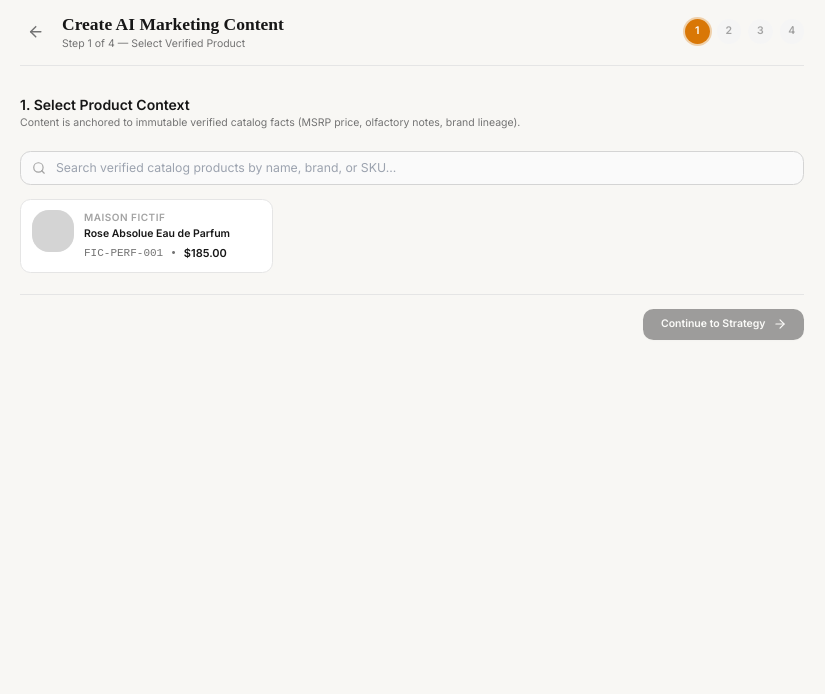
Scenario: Content Creation Wizard (WEB-CONTENT-06 to WEB-CONTENT-10) › WEB-CONTENT-08: Progresses through Step 2 (Strategy & Language) to Step 3
// Select product
Step 1. Click the heading "Rose Absolue Eau de Parfum" → coordinates (157, 234), box [84,227,230,240]
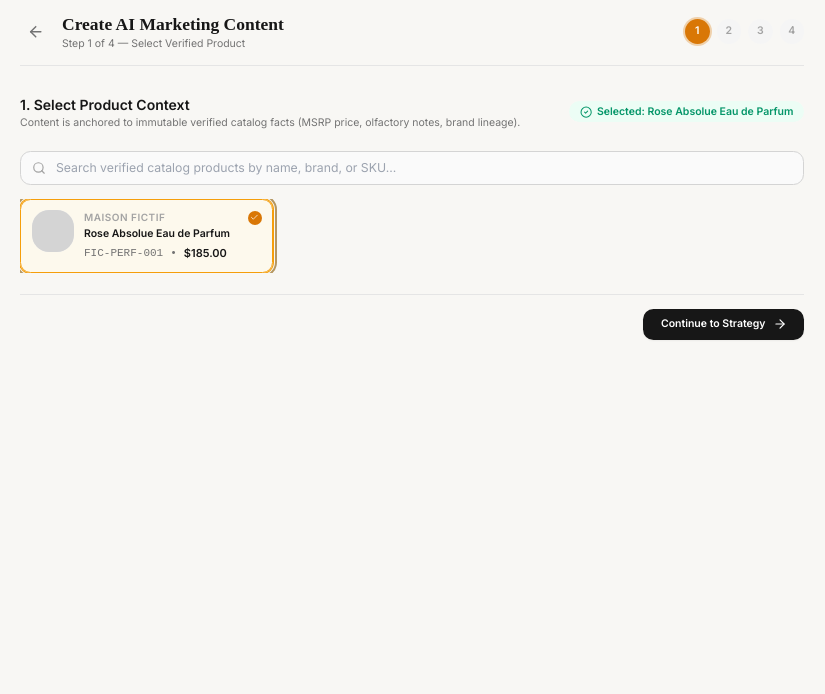
Step 2. Click the button "Continue to Strategy" → coordinates (724, 324), box [643,308,804,340]
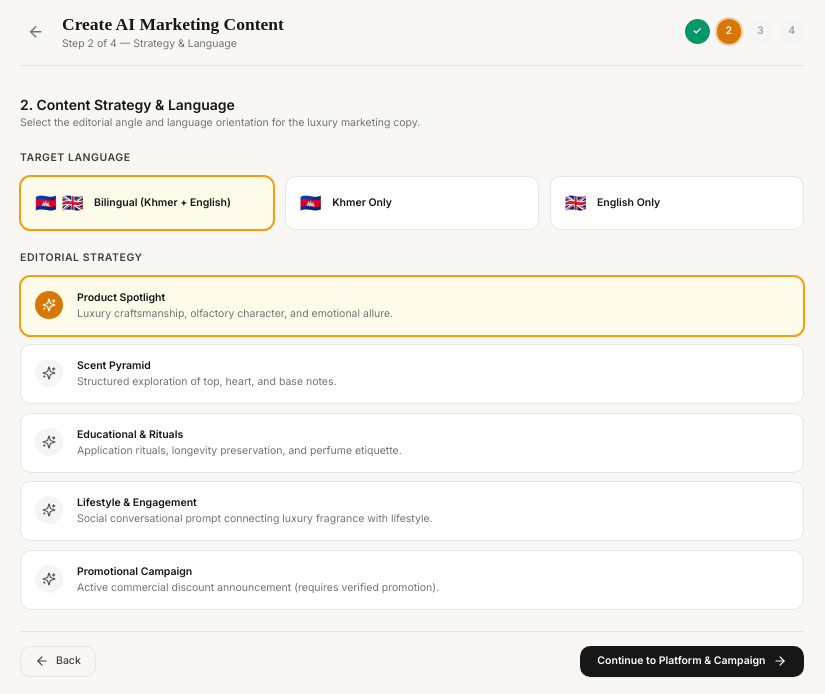
Now the heading "2. Content Strategy & Language" is shown, box [20,96,235,112]
Step 3. Click the text "Scent Pyramid" → coordinates (114, 366), box [77,359,151,372]
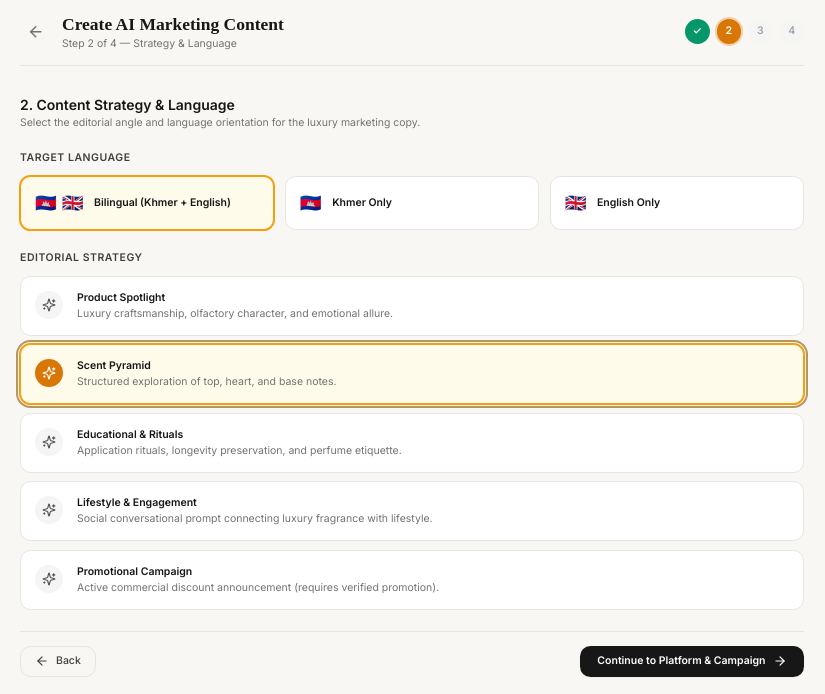
Step 4. Click the button "Continue to Platform & Campaign" → coordinates (692, 661), box [580,646,804,677]
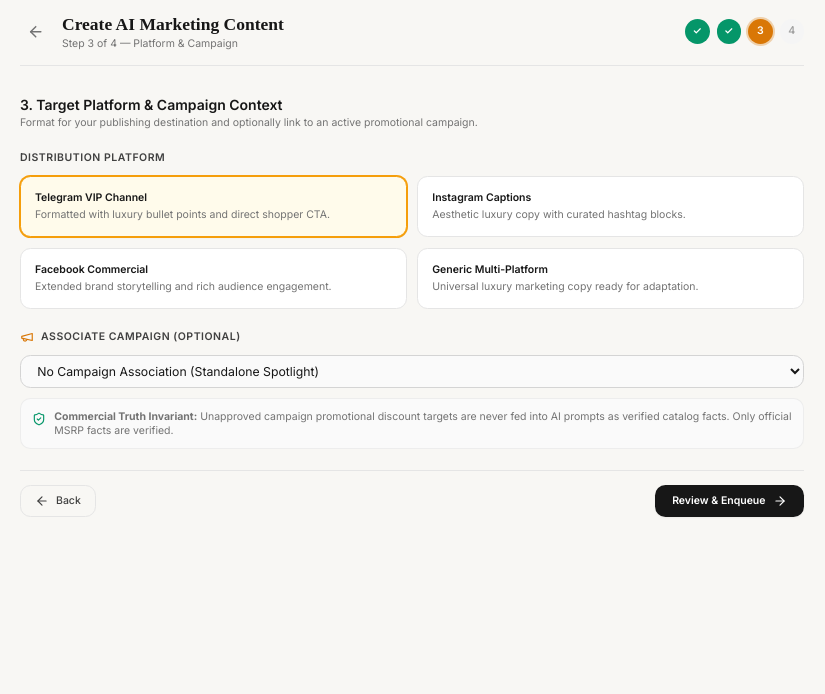
Now the heading "3. Target Platform & Campaign Context" is shown, box [20,96,283,112]
